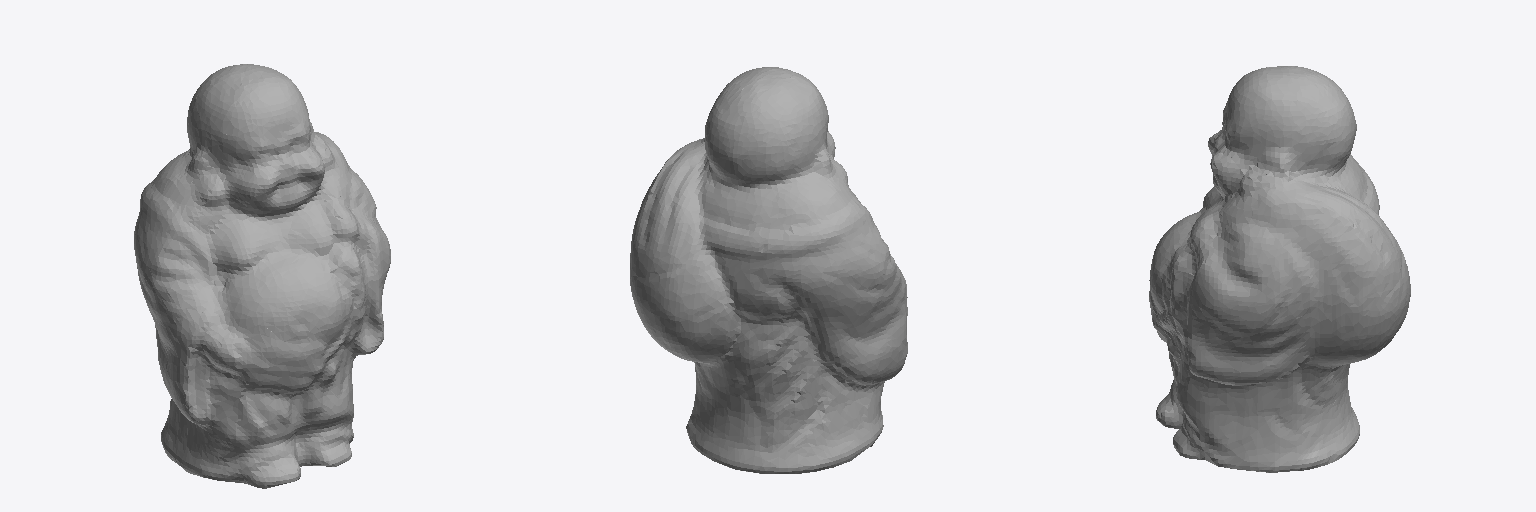
The model's file is buddha_new.obj.
3 views of the same model, side by side, from view 1: azimuth 30°, elevation 25°; view 2: azimuth 150°, elevation 25°; view 3: azimuth 270°, elevation 25° (orthographic).
Visible parts, largest first — view 1: polygons_2; view 2: polygons_2; view 3: polygons_2.
Boxes of the visible parts, box(x1,y1,x2,y2) form: polygons_2: box(134, 64, 390, 488); polygons_2: box(630, 67, 907, 473); polygons_2: box(1149, 66, 1410, 472).
Size of the model in its own units: 150 by 231 by 150.